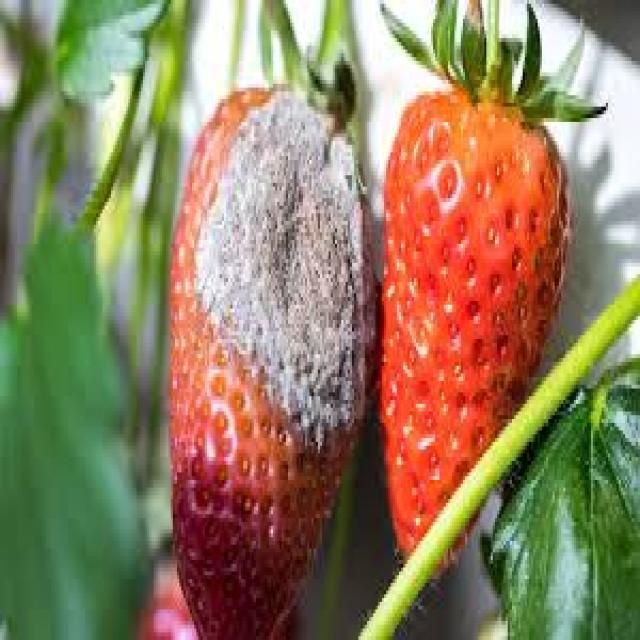Fruta sana: (384, 57, 568, 585)
Moho gris: (173, 82, 374, 636)
